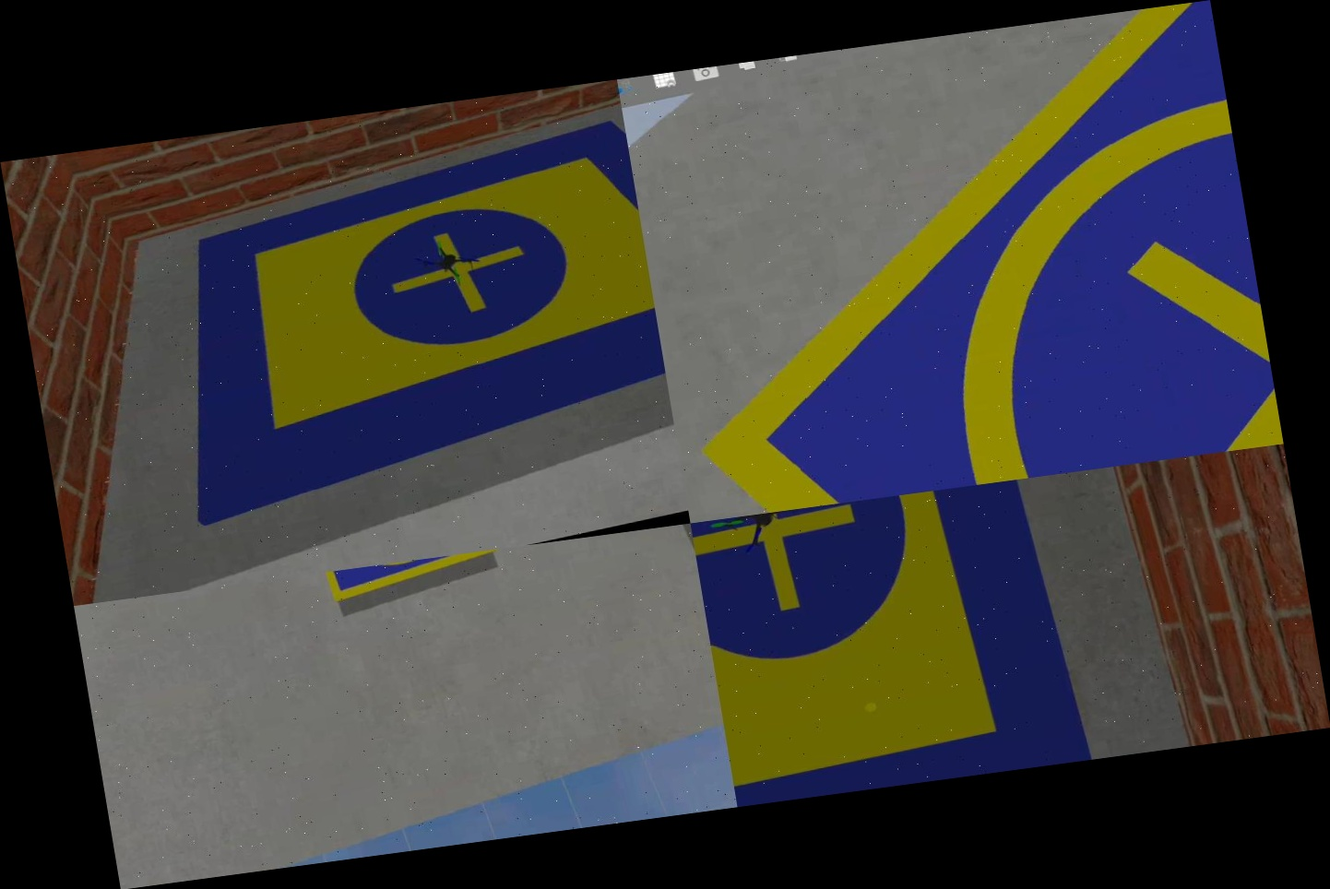large_base: (110, 102, 680, 525), (691, 475, 1096, 806)
small_base: (617, 0, 1283, 523), (303, 549, 506, 611)
